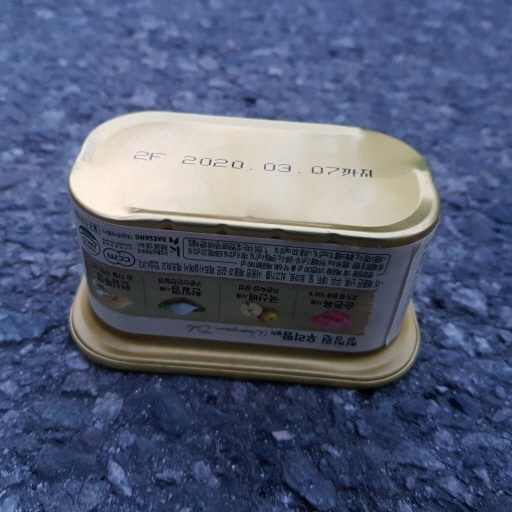Metal_2: (63, 109, 441, 388)
